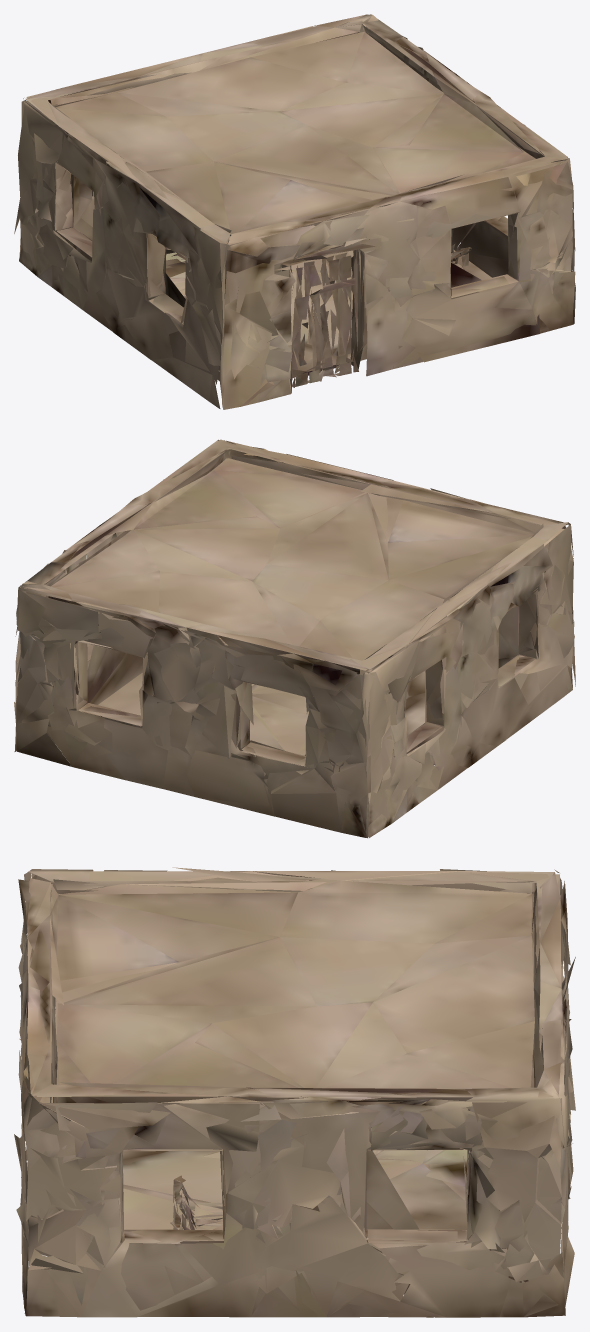
The model's file is adobe_house_a.glb.
The picture shows the model from 3 angles, top to bottom: view 1: azimuth 30°, elevation 25°; view 2: azimuth 150°, elevation 25°; view 3: azimuth 270°, elevation 25°; orthographic projection. The views are drawn at different scales.
Visible parts, largest first — view 1: Mesh_0; view 2: Mesh_0; view 3: Mesh_0.
Part boxes in pixels (x1=…): Mesh_0: x1=14, y1=14, x2=575, y2=409; Mesh_0: x1=14, y1=439, x2=575, y2=838; Mesh_0: x1=14, y1=867, x2=575, y2=1317.
Size of the model in its own units: 1.97 by 0.8616 by 1.95.
1 material, 1 textured.
